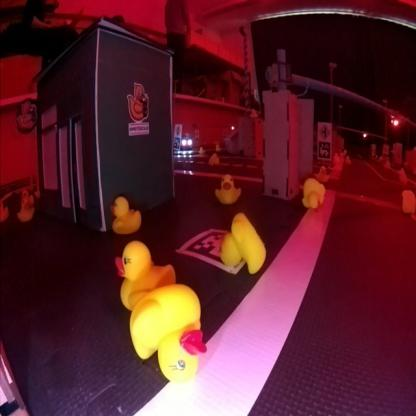Duckie: (133, 284, 205, 378), (116, 239, 174, 304), (222, 211, 266, 273), (110, 197, 141, 233), (218, 173, 240, 203), (304, 178, 326, 208), (18, 199, 34, 220), (316, 166, 330, 182), (210, 152, 219, 164), (200, 146, 206, 154), (346, 155, 352, 162)
Duckiebot: (182, 137, 194, 147)
Intersection sign: (320, 122, 332, 138)
QR code: (180, 228, 242, 273), (319, 142, 331, 158), (175, 137, 181, 149)
Signal sign: (176, 124, 182, 134)
